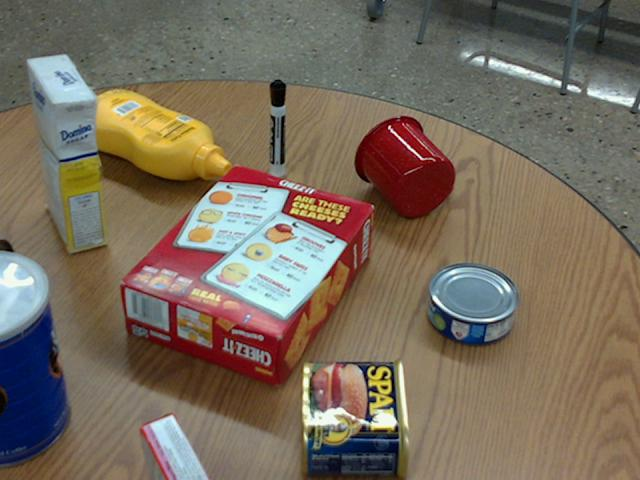cracker_box: (120, 167, 373, 384)
gelatin_box: (139, 411, 209, 479)
large_marker: (269, 79, 285, 176)
master_chef_can: (0, 249, 68, 464)
mug: (354, 115, 455, 217)
mustard_bottle: (75, 91, 230, 179)
potted_meat_can: (300, 358, 408, 479)
sugar_box: (29, 55, 104, 252)
tomato_soup_can: (0, 237, 14, 303)
tuna_fish_can: (427, 263, 518, 344)
